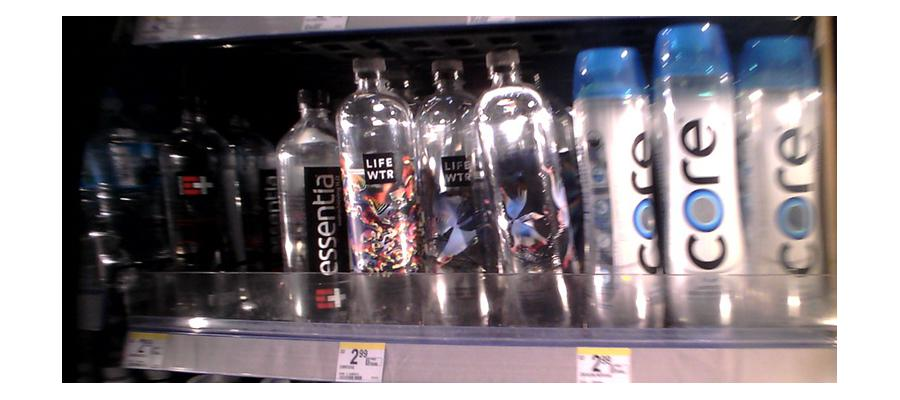bottle: (652, 13, 747, 334), (477, 54, 571, 330), (740, 30, 825, 331), (569, 46, 659, 330), (337, 59, 420, 330), (420, 49, 485, 332), (277, 85, 342, 326), (162, 114, 238, 320)
